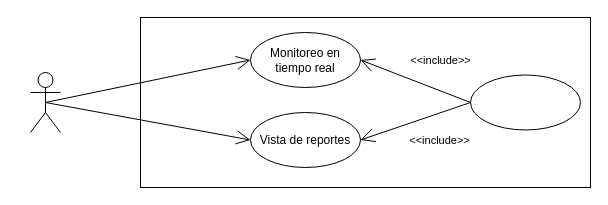
This 608x205 diagram has some shape labels left out. The box of each missing label's shape, as (x1, y1, x2, y2) in pixels:
Gestión de inventarios bancarios: (470, 74, 580, 130)
Supervisor: (30, 72, 60, 132)
